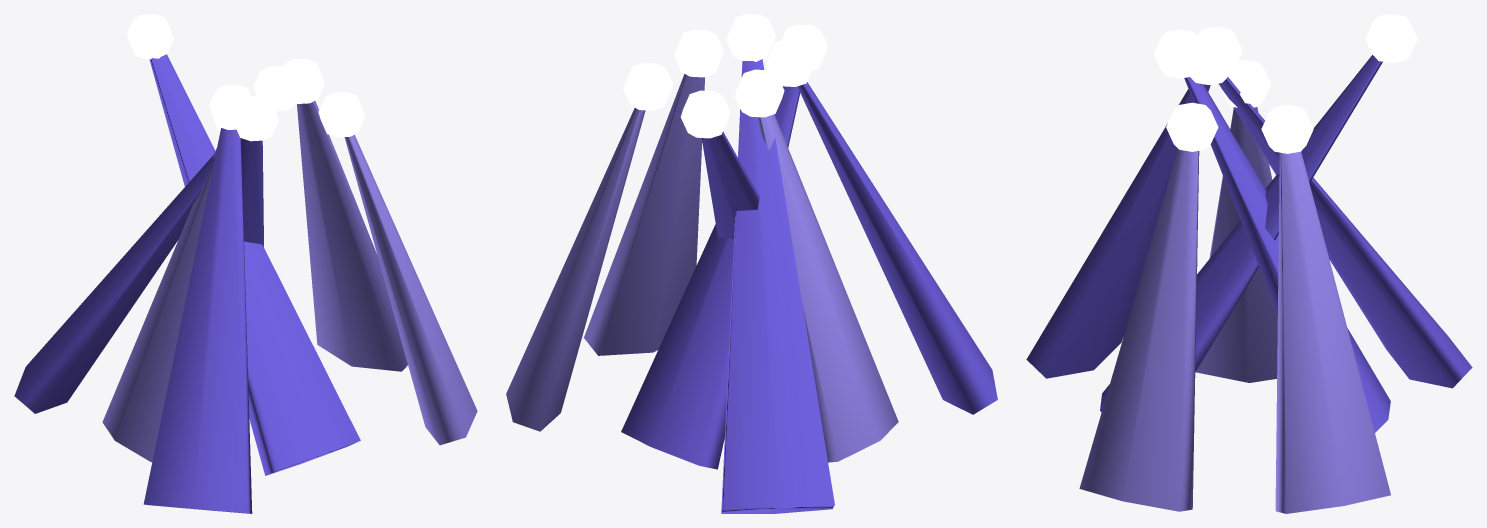
The model's file is tall_grass.glb.
The picture shows the model from 3 angles, left to right: view 1: azimuth 30°, elevation 25°; view 2: azimuth 150°, elevation 25°; view 3: azimuth 270°, elevation 25°; orthographic projection. The views are drawn at different scales.
Parts seen in each view (by area): view 1: Blades; view 2: Blades; view 3: Blades.
Boxes of the visible parts, <box> form: Blades: <box>14,14,477,513</box>; Blades: <box>506,14,997,513</box>; Blades: <box>1026,14,1472,513</box>.
Size of the model in its own units: 0.5102 by 0.509 by 0.5097.
